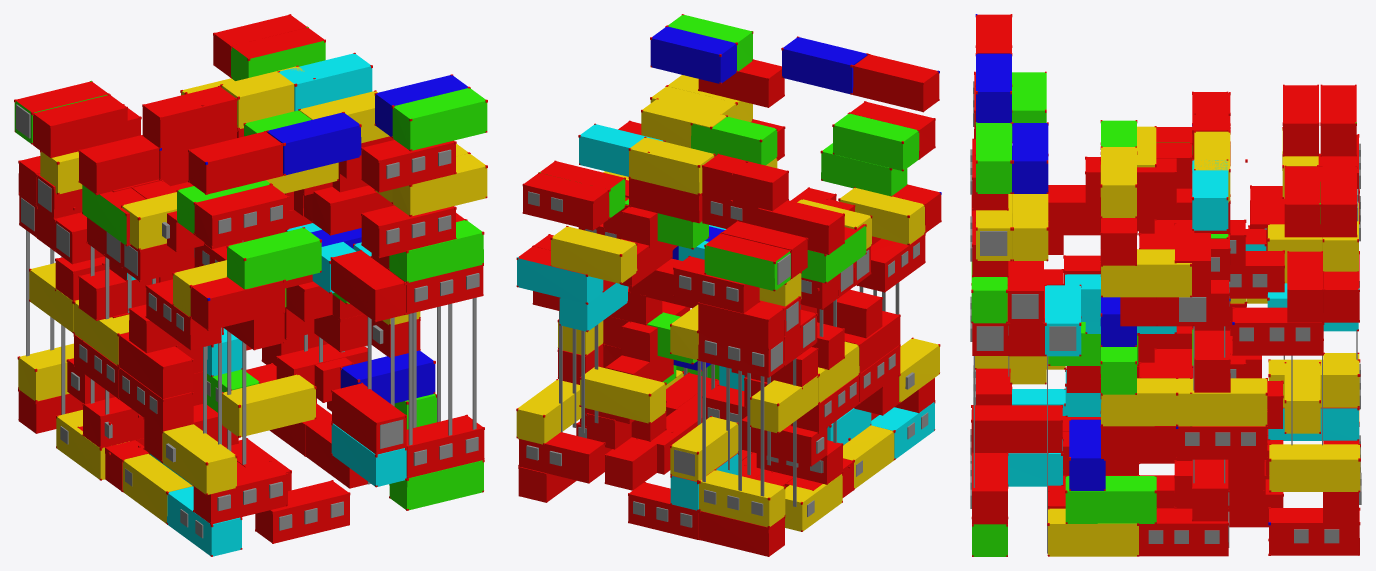
The model's file is ParentPart20FBX.FBX.
3 views of the same model, side by side, from view 1: azimuth 30°, elevation 25°; view 2: azimuth 150°, elevation 25°; view 3: azimuth 270°, elevation 25° (orthographic). The views are drawn at different scales.
Visible parts, largest first — view 1: ParentPart20; view 2: ParentPart20; view 3: ParentPart20.
Part boxes in pixels (x1=…): ParentPart20: x1=14, y1=14, x2=487, y2=556; ParentPart20: x1=516, y1=14, x2=941, y2=556; ParentPart20: x1=970, y1=14, x2=1361, y2=556.
Size of the model in its own units: 7.71 by 8.83 by 10.09.
